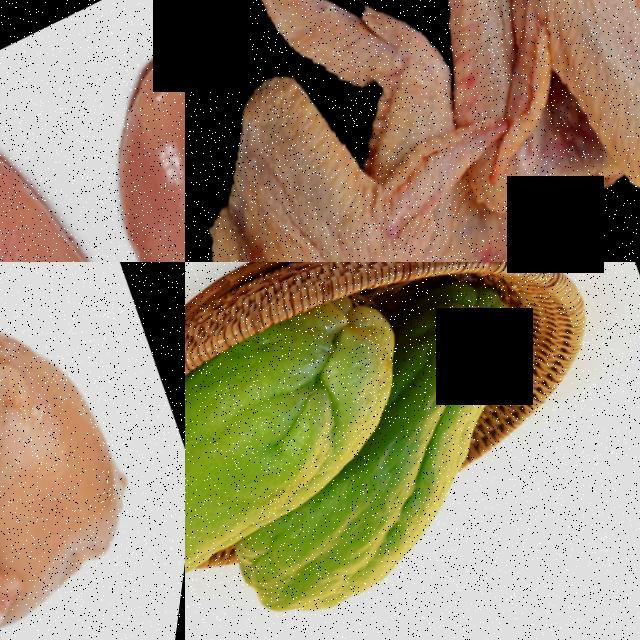chayote: (185, 273, 418, 599), (223, 430, 546, 640)
chicken breast: (0, 262, 185, 640), (21, 0, 185, 262), (0, 39, 185, 262)
chicken wing: (185, 0, 553, 262), (417, 0, 640, 262)
